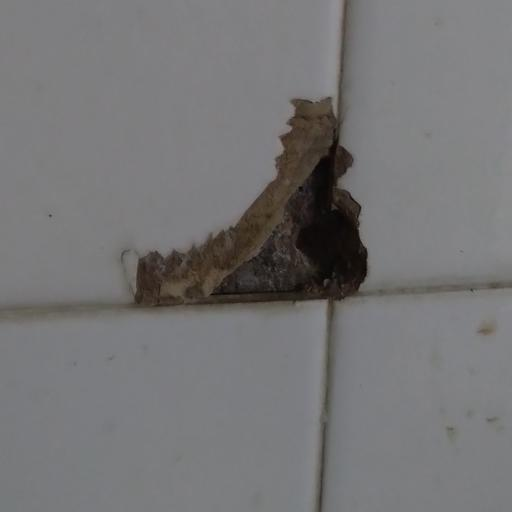spalling: (123, 69, 416, 393)
